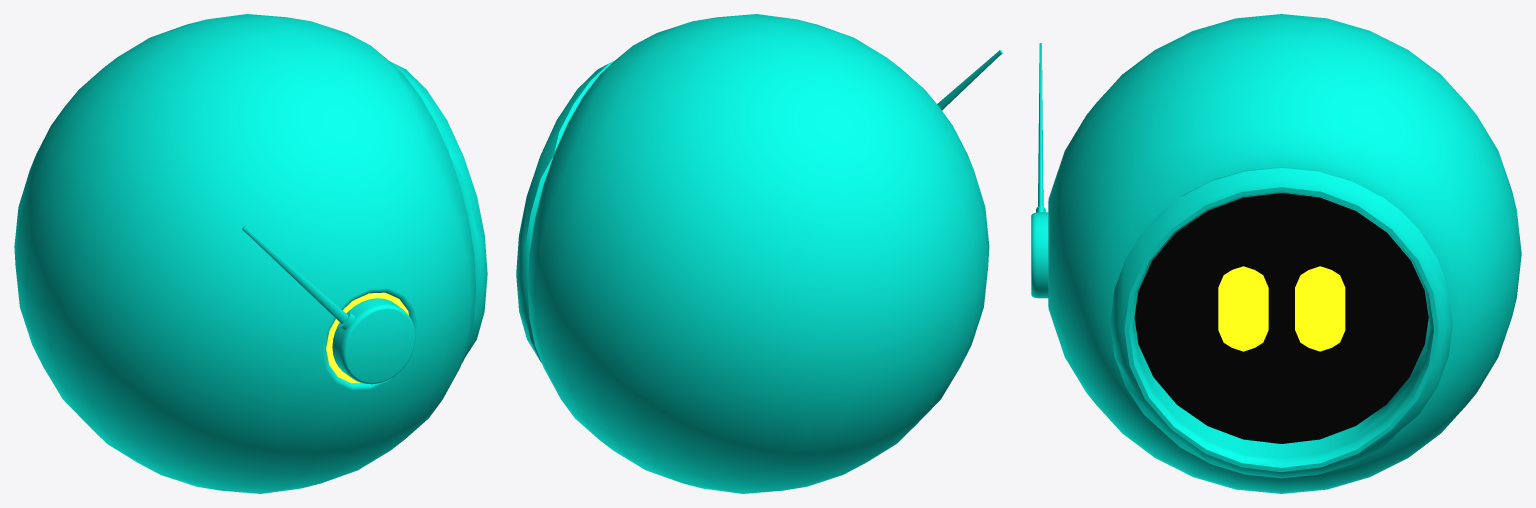
Rendered from robot.glb.
3 renders of one model, left to right at view 1: azimuth 30°, elevation 25°; view 2: azimuth 150°, elevation 25°; view 3: azimuth 270°, elevation 25°, orthographic.
Parts seen in each view (by area): view 1: Cylinder_0; view 2: Cylinder_0; view 3: Cylinder_0, Plane_2, Plane001_3.
Boxes of the visible parts, x1,y1,x2,y2 form: Cylinder_0: (14,14,487,493); Cylinder_0: (516,14,1002,493); Cylinder_0: (1031,14,1521,493); Plane_2: (1218,266,1268,351); Plane001_3: (1295,266,1345,351).
Bounding box in the file's own units: 1.49 × 1.71 × 1.75.
